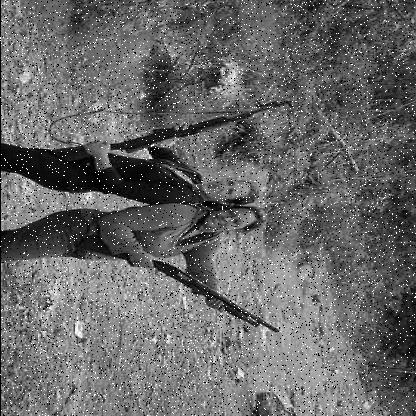rifle: (59, 234, 274, 334)
